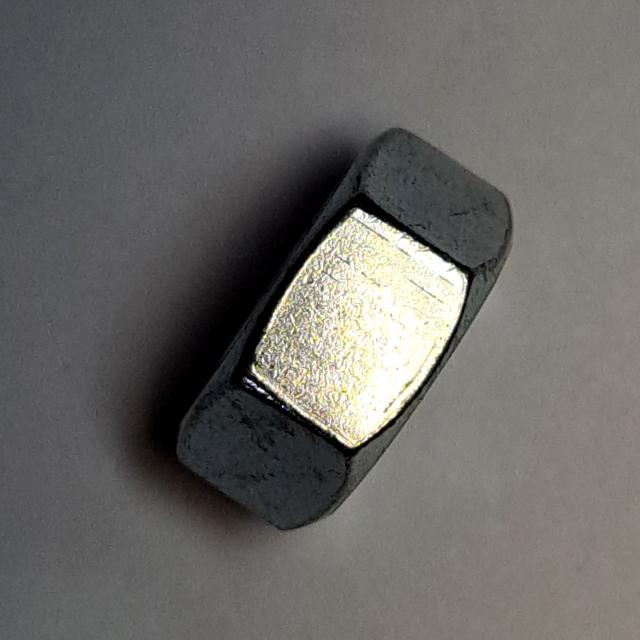Side_Excellent: (161, 106, 542, 550)
